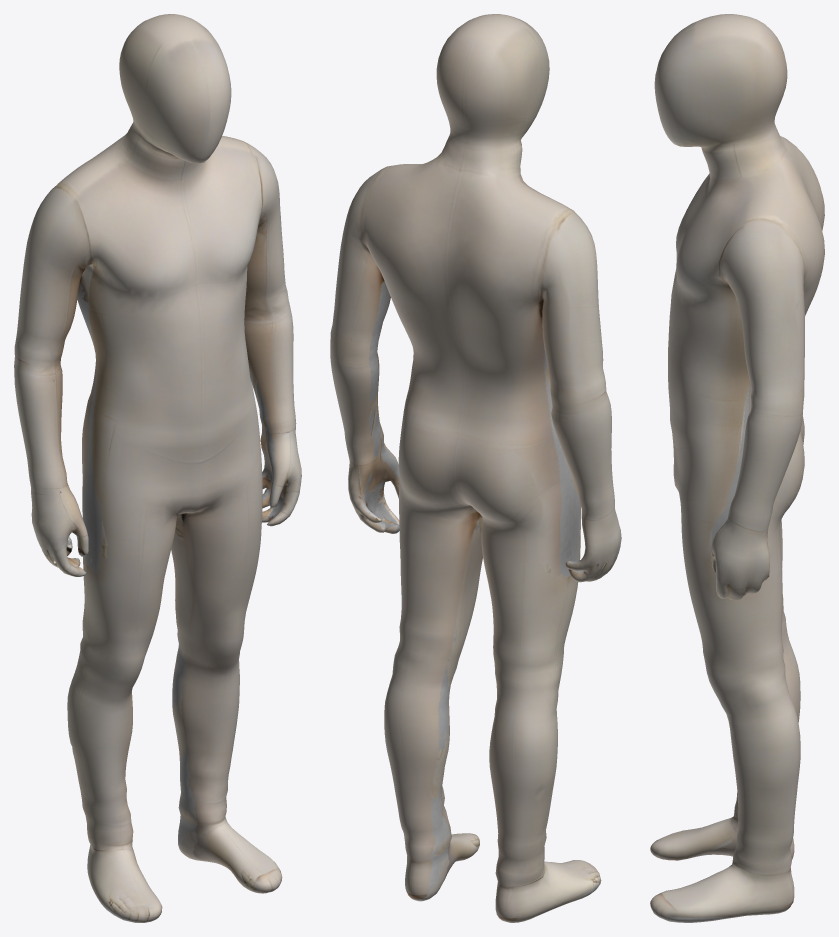
The model's file is MyModel.fbx.
3 renders of one model, left to right at view 1: azimuth 30°, elevation 25°; view 2: azimuth 150°, elevation 25°; view 3: azimuth 270°, elevation 25°, orthographic.
Visible parts, largest first — view 1: input; view 2: input; view 3: input.
Part boxes in pixels (x1=…): input: x1=14, y1=14, x2=301, y2=922; input: x1=330, y1=14, x2=621, y2=922; input: x1=650, y1=14, x2=824, y2=922.
Size of the model in its own units: 65.63 by 200 by 36.46.
1 material, 1 textured.
